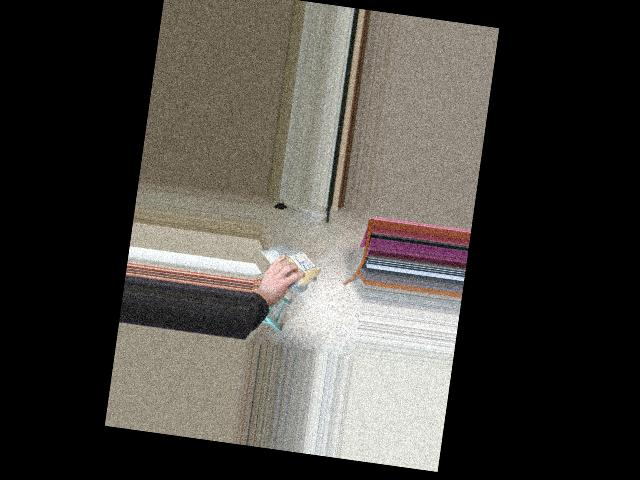cheese: (257, 245, 330, 284)
